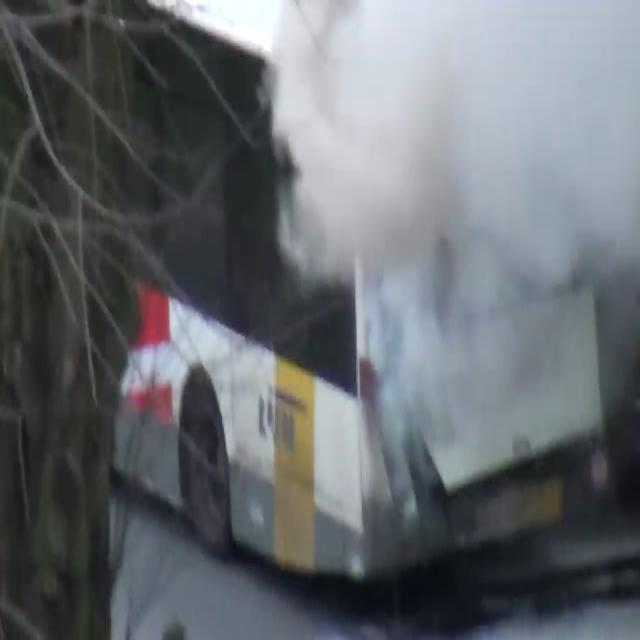Smoke: (263, 0, 640, 477)
